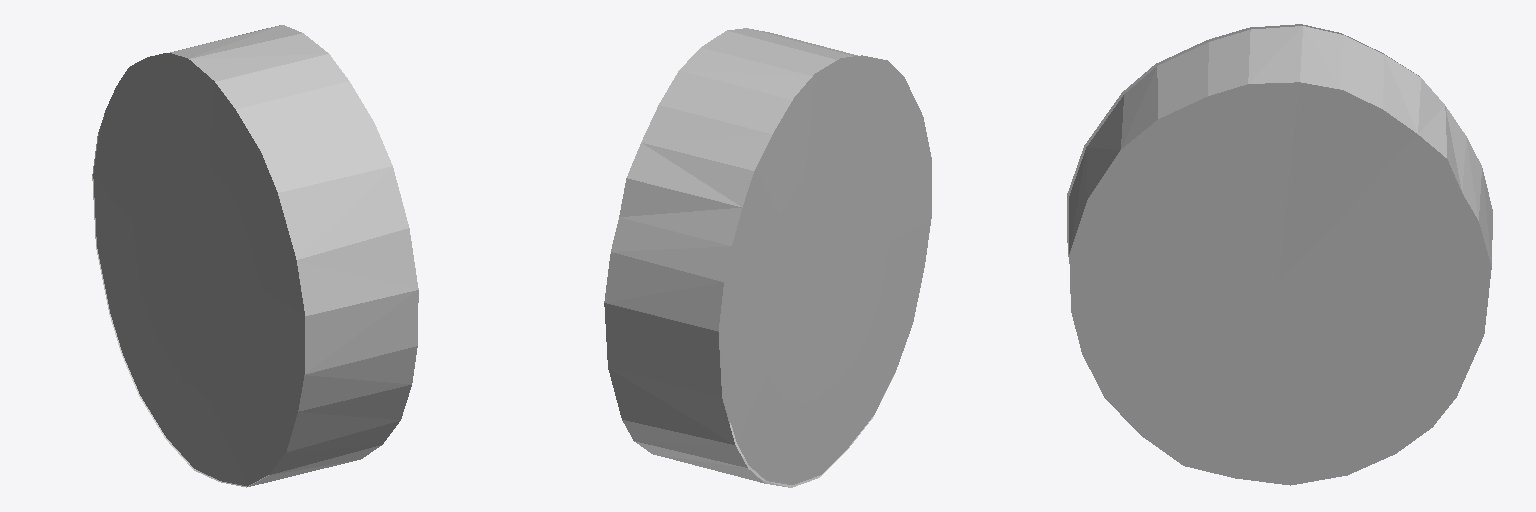
The model's file is wheel2.obj.
The picture shows the model from 3 angles: view 1: azimuth 30°, elevation 25°; view 2: azimuth 150°, elevation 25°; view 3: azimuth 270°, elevation 25°; orthographic projection.
Size of the model in its own units: 5.8 by 19.54 by 18.51.